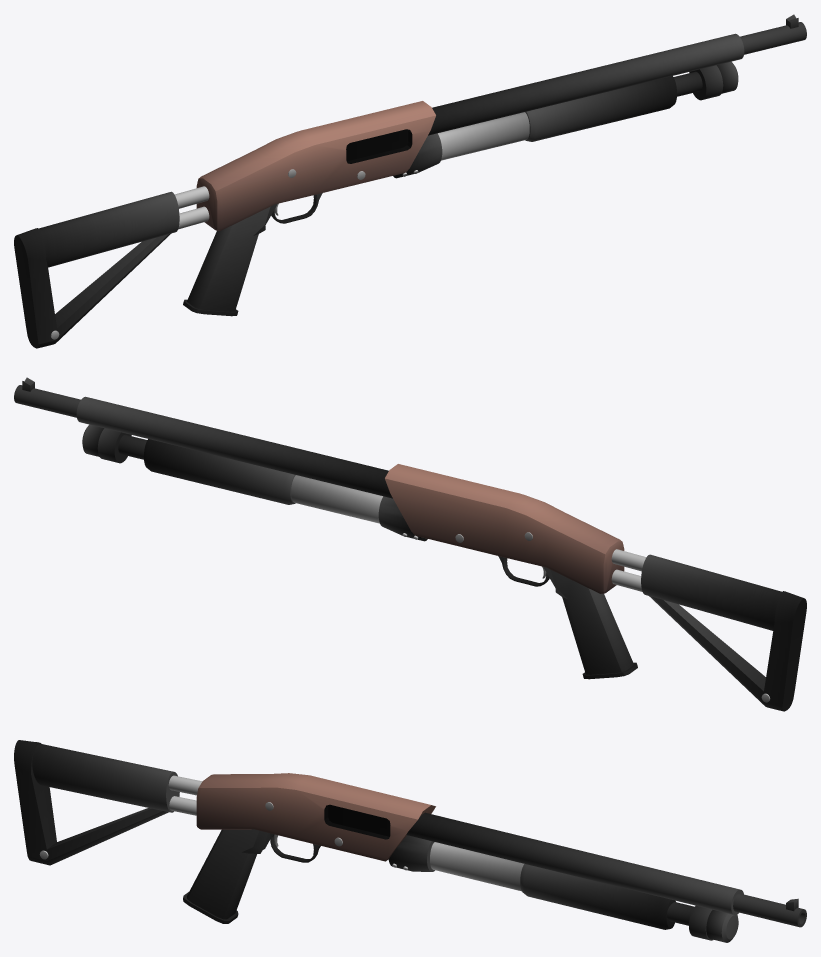
The model's file is weapon_shotgun_slug.glb.
The picture shows the model from 3 angles, top to bottom: view 1: azimuth 30°, elevation 25°; view 2: azimuth 150°, elevation 25°; view 3: azimuth 330°, elevation 25°; orthographic projection.
Visible parts, largest first — view 1: Cube.001, Cylinder.004, Cylinder.008, Cylinder.007, handle, Cube.003, Cylinder, barrel, Cylinder.009, Cylinder.010; view 2: Cube.001, Cylinder.004, Cylinder.008, Cylinder.007, handle, Cube.003, Cylinder, barrel, Cylinder.009, Cylinder.010; view 3: Cube.001, Cylinder.004, Cylinder.007, Cylinder.008, handle, Cube.003, Cylinder, barrel, Cylinder.009, Cylinder.011, Cylinder.010, Cylinder.005 (+2 smaller).
Boxes of the visible parts, x1=… form: Cube.001: x1=196, y1=101, x2=435, y2=230; Cylinder.004: x1=428, y1=33, x2=744, y2=135; Cylinder.008: x1=14, y1=228, x2=171, y2=348; Cylinder.007: x1=38, y1=191, x2=179, y2=267; handle: x1=525, y1=76, x2=676, y2=141; Cube.003: x1=183, y1=203, x2=277, y2=316; Cylinder: x1=438, y1=112, x2=529, y2=160; barrel: x1=740, y1=22, x2=806, y2=54; Cylinder.009: x1=393, y1=133, x2=442, y2=178; Cylinder.010: x1=689, y1=65, x2=723, y2=100; Cube.001: x1=385, y1=464, x2=624, y2=593; Cylinder.004: x1=76, y1=396, x2=392, y2=498; Cylinder.008: x1=649, y1=591, x2=806, y2=711; Cylinder.007: x1=641, y1=554, x2=781, y2=630; handle: x1=144, y1=439, x2=295, y2=504; Cube.003: x1=543, y1=567, x2=637, y2=679; Cylinder: x1=291, y1=475, x2=382, y2=523; barrel: x1=14, y1=385, x2=80, y2=417; Cylinder.009: x1=378, y1=496, x2=427, y2=541; Cylinder.010: x1=97, y1=428, x2=131, y2=463; Cube.001: x1=196, y1=773, x2=435, y2=861; Cylinder.004: x1=406, y1=812, x2=743, y2=915; Cylinder.007: x1=32, y1=743, x2=179, y2=812; Cylinder.008: x1=14, y1=740, x2=168, y2=865; handle: x1=520, y1=864, x2=675, y2=929; Cube.003: x1=183, y1=829, x2=270, y2=923; Cylinder: x1=430, y1=842, x2=524, y2=891; barrel: x1=733, y1=893, x2=806, y2=927; Cylinder.009: x1=388, y1=835, x2=434, y2=871; Cylinder.011: x1=706, y1=910, x2=738, y2=942; Cylinder.010: x1=689, y1=905, x2=713, y2=940; Cylinder.005: x1=168, y1=775, x2=202, y2=795.
Bounding box in the file's own units: 1.39 × 0.2709 × 0.0709.
Materials: 1 (1 with a texture image).
